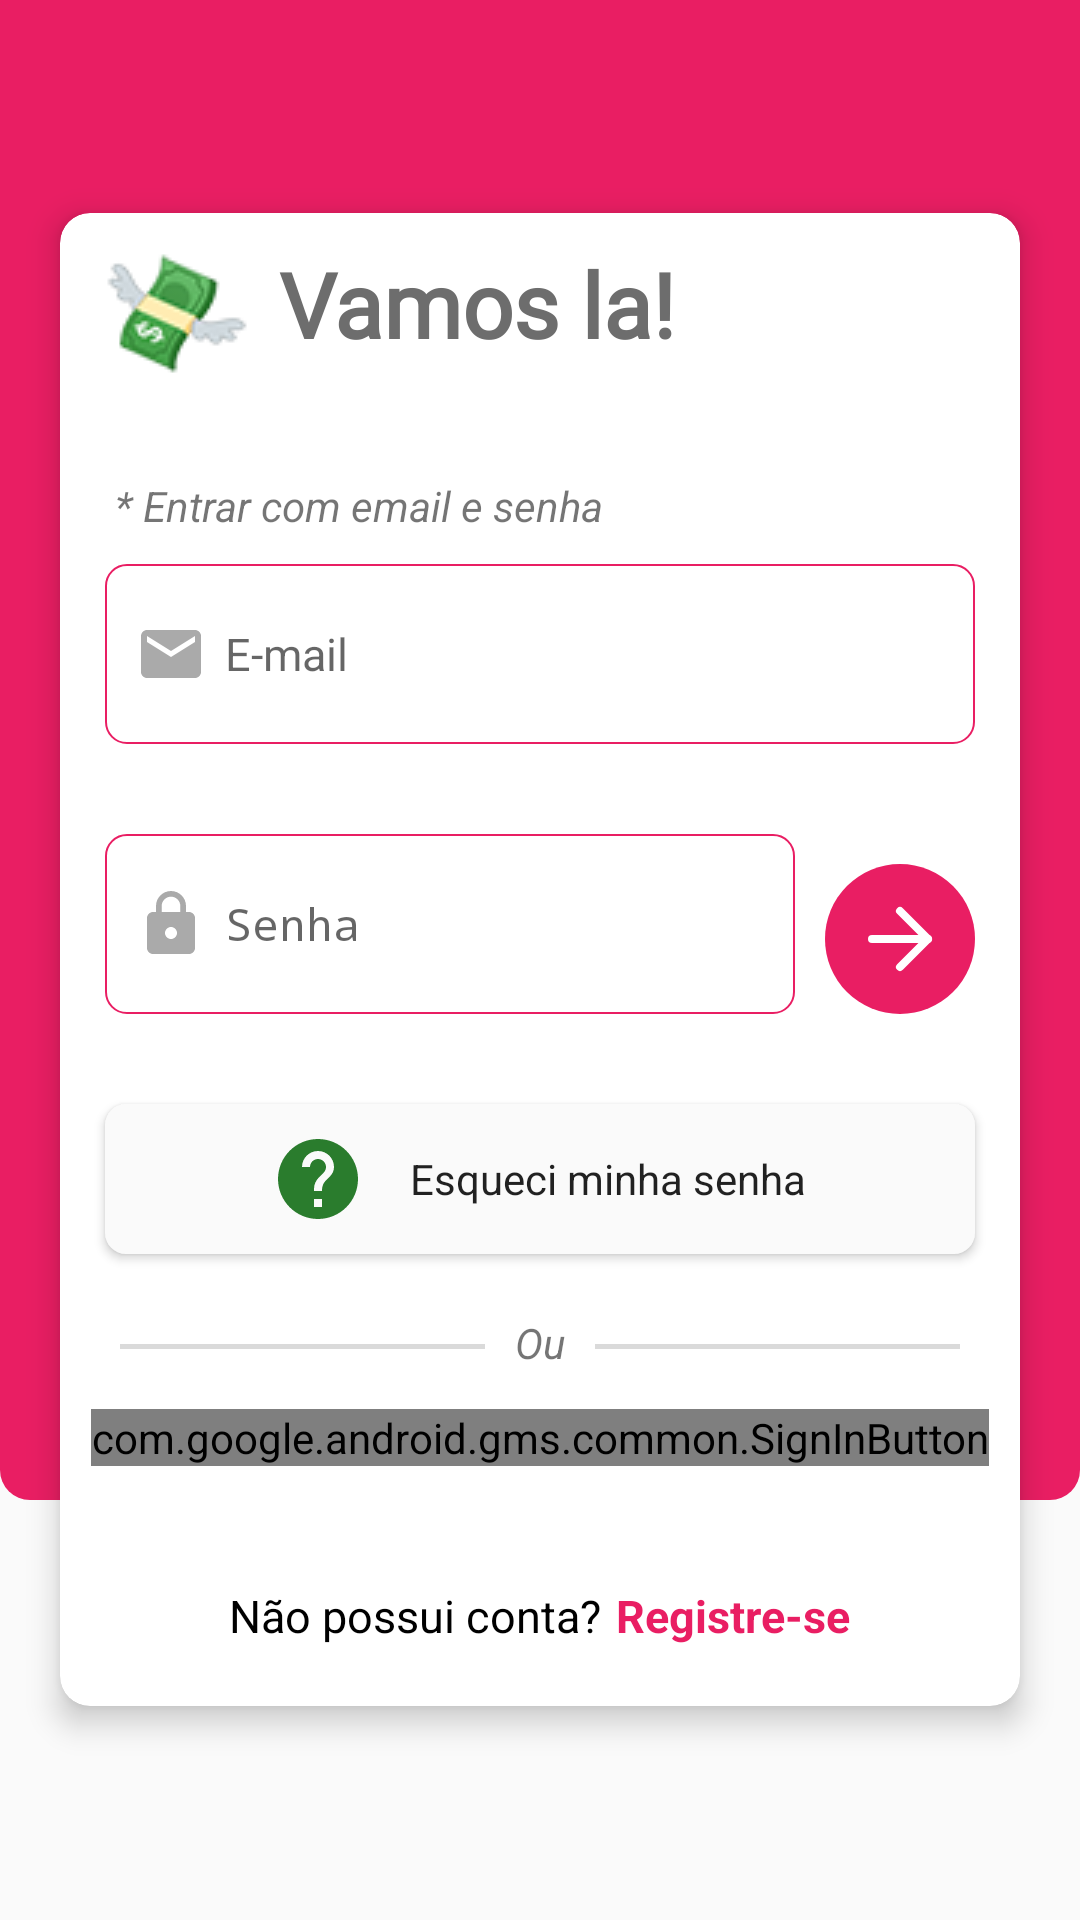

Named icons in this screenshot (1080*1920) and their bounding boxes, box=[x1, y1, x2, y2]:
arrow right: box=[825, 864, 975, 1014]
